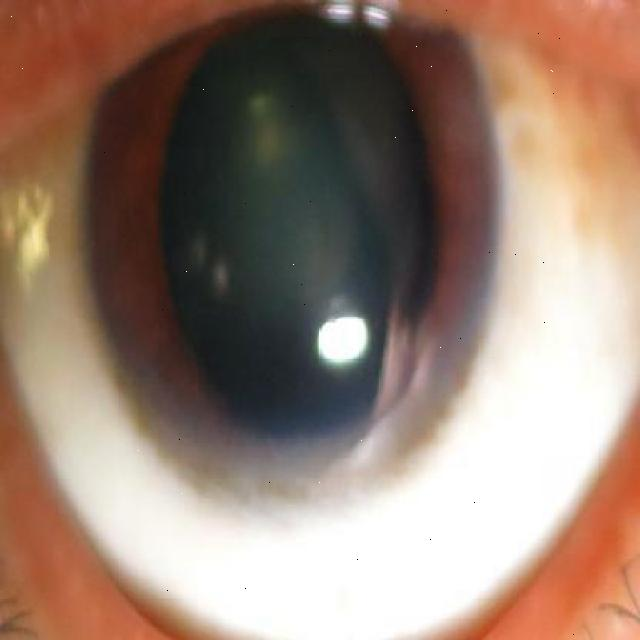Cataract: (85, 0, 509, 523)
